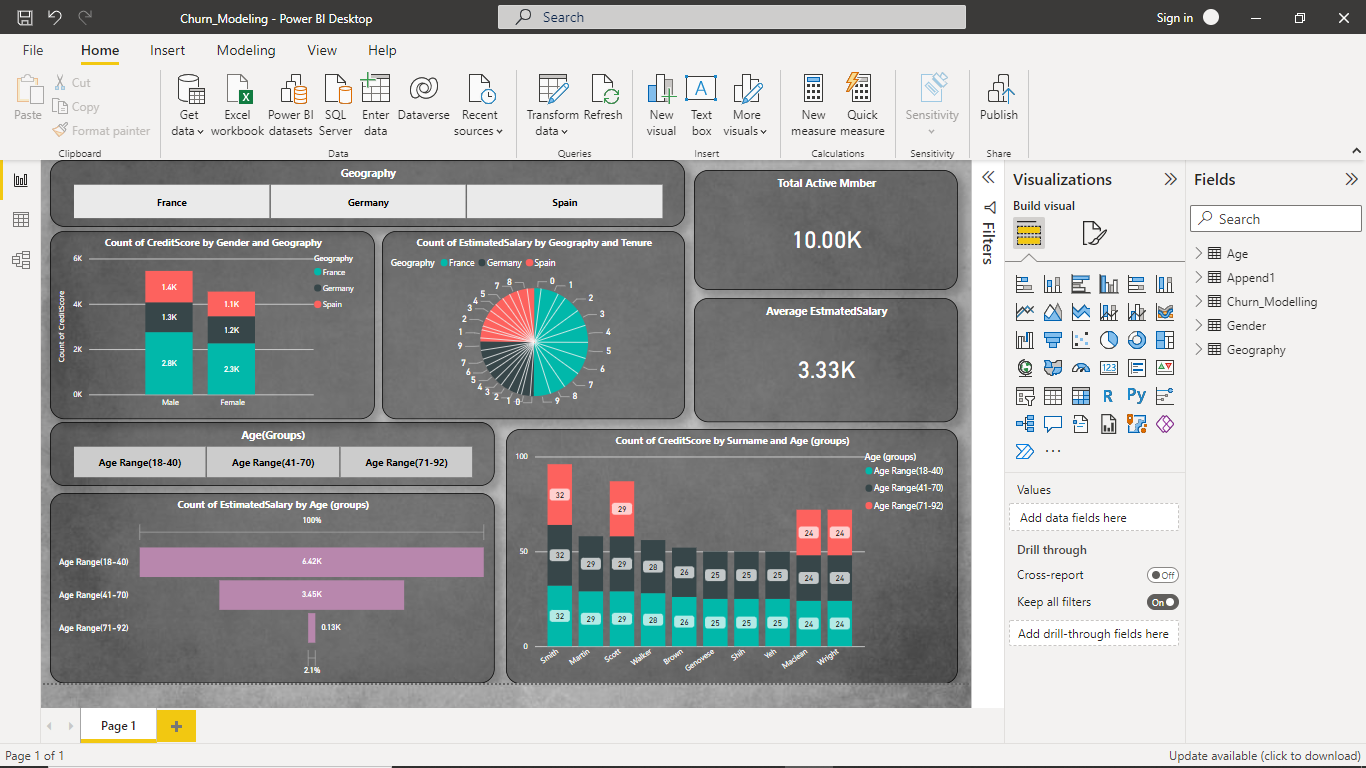

The page's visual inventory and layout, read from the dashboard file:
{"tool":"powerbi","page":{"name":"Page 1","canvas":[1280,720],"ordinal":0},"visuals":[{"type":"columnChart","fields":{"Category":["Gender.Gender"],"Y":["Churn_Modelling.CreditScore"],"Series":["Geography.Geography"]},"box":[12.4,97.7,447.3,258.8],"z":1},{"type":"pieChart","fields":{"Y":["Churn_Modelling.EstimatedSalary"],"Category":["Churn_Modelling.Geography"],"Series":["Churn_Modelling.Tenure"]},"box":[469.3,97.7,417,258.8],"z":2},{"type":"lineStackedColumnComboChart","fields":{"Category":["Churn_Modelling.Surname"],"Y":["Churn_Modelling.CreditScore"],"Series":["Age.Age (groups)"]},"box":[640,369.6,621.5,351.1],"z":3},{"type":"slicer","title":"Geography","fields":{"Values":["Geography.Geography"]},"box":[12.4,0,874,92.2],"z":4},{"type":"slicer","title":"Age(Groups)","fields":{"Values":["Age.Age (groups)"]},"box":[12.4,360.6,612.5,88.1],"z":6},{"type":"funnel","fields":{"Category":["Age.Age (groups)"],"Y":["Age.EstimatedSalary"]},"box":[12.4,458.3,612.5,261.5],"z":7},{"type":"card","title":"Average EstmatedSalary","fields":{"Values":["Churn_Modelling.Count of EstimatedSalary average per Geography"]},"box":[898.8,189.9,363.4,170.7],"z":8},{"type":"card","title":"Total Active Mmber","fields":{"Values":["Churn_Modelling.IsActiveMember"]},"box":[898.8,13.8,363.4,165.2],"z":9}]}

Visuals, with their boxes on the page's 1280x720 design canvas (x1, y1, x2, y2). These are canvas units, not pixel positions in the 1366x768 screenshot, which may show the page scaled, cropped or inside an application window:
columnChart - Gender.Gender x Churn_Modelling.CreditScore: x1=12, y1=98, x2=460, y2=356
pieChart - Churn_Modelling.EstimatedSalary x Churn_Modelling.Geography: x1=469, y1=98, x2=886, y2=356
lineStackedColumnComboChart - Churn_Modelling.Surname x Churn_Modelling.CreditScore: x1=640, y1=370, x2=1262, y2=721
"Geography" slicer: x1=12, y1=0, x2=886, y2=92
"Age(Groups)" slicer: x1=12, y1=361, x2=625, y2=449
funnel - Age.Age (groups) x Age.EstimatedSalary: x1=12, y1=458, x2=625, y2=720
"Average EstmatedSalary" card: x1=899, y1=190, x2=1262, y2=361
"Total Active Mmber" card: x1=899, y1=14, x2=1262, y2=179
